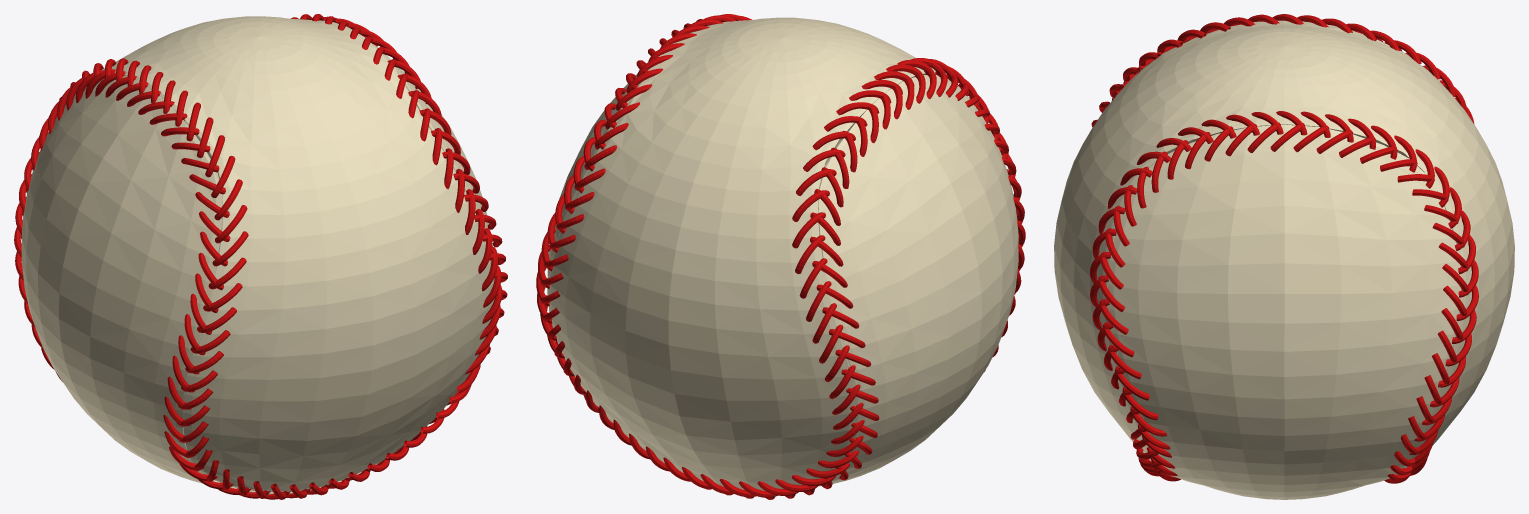
The model's file is baseball.fbx.
3 views of the same model, side by side, from view 1: azimuth 30°, elevation 25°; view 2: azimuth 150°, elevation 25°; view 3: azimuth 270°, elevation 25° (orthographic).
Parts seen in each view (by area): view 1: ball; view 2: ball; view 3: ball.
Part boxes in pixels (bbox=[...]): ball: bbox=[14, 14, 507, 499]; ball: bbox=[536, 14, 1025, 499]; ball: bbox=[1054, 14, 1514, 499].
Size of the model in its own units: 7.22 by 7.48 by 7.22.
